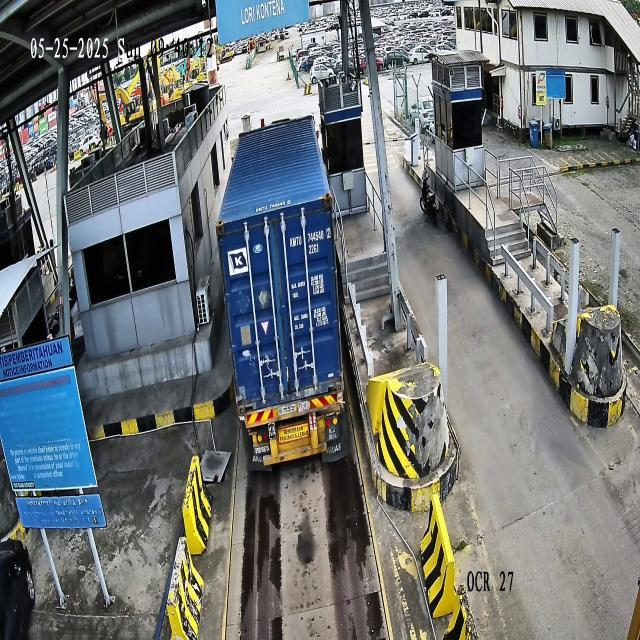ISO: (308, 243, 319, 254)
container_number: (288, 227, 332, 249)
